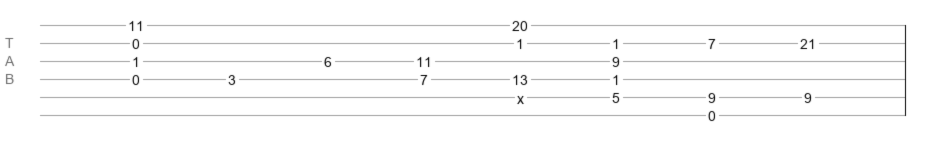0: (132, 36, 140, 46), (132, 72, 140, 82), (708, 108, 716, 118)
1: (132, 54, 140, 64), (516, 36, 524, 46), (612, 36, 620, 46), (612, 72, 620, 82)
11: (128, 18, 144, 28), (416, 54, 432, 64)
13: (512, 72, 528, 82)
20: (512, 18, 528, 28)
21: (800, 36, 816, 46)
3: (228, 72, 236, 82)
5: (612, 90, 620, 100)
6: (324, 54, 332, 64)
7: (420, 72, 428, 82), (708, 36, 716, 46)
9: (612, 54, 620, 64), (708, 90, 716, 100), (804, 90, 812, 100)
x: (517, 91, 524, 99)
